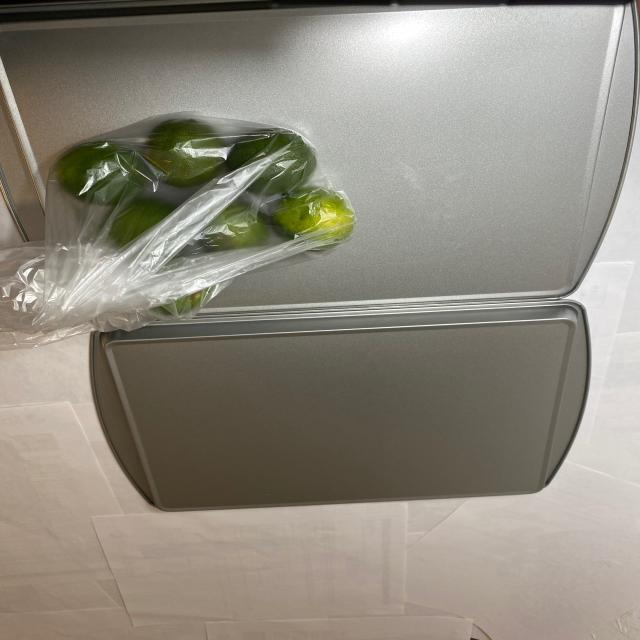lemon: (45, 132, 357, 313)
